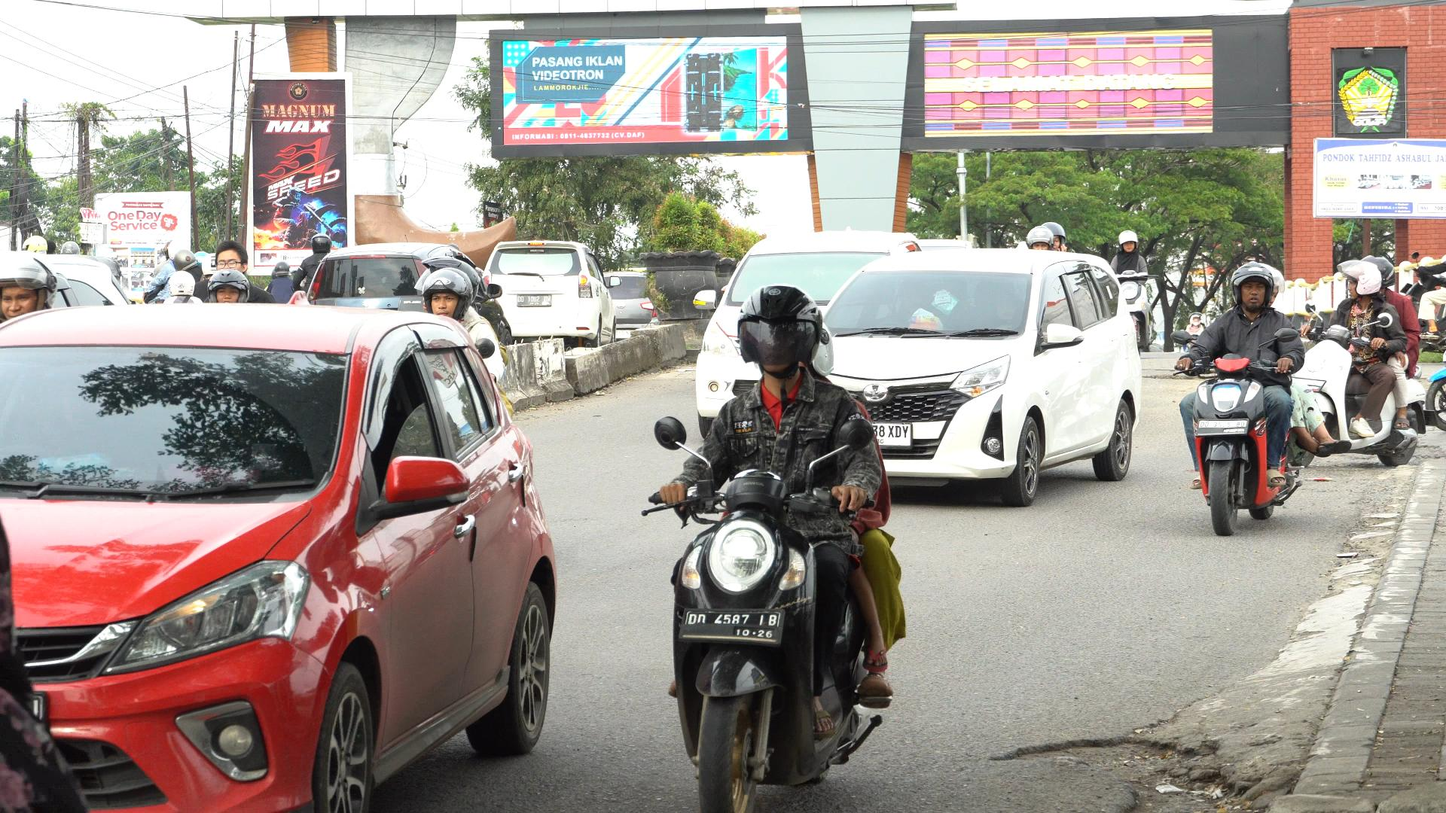number-plate: (675, 601, 785, 646)
